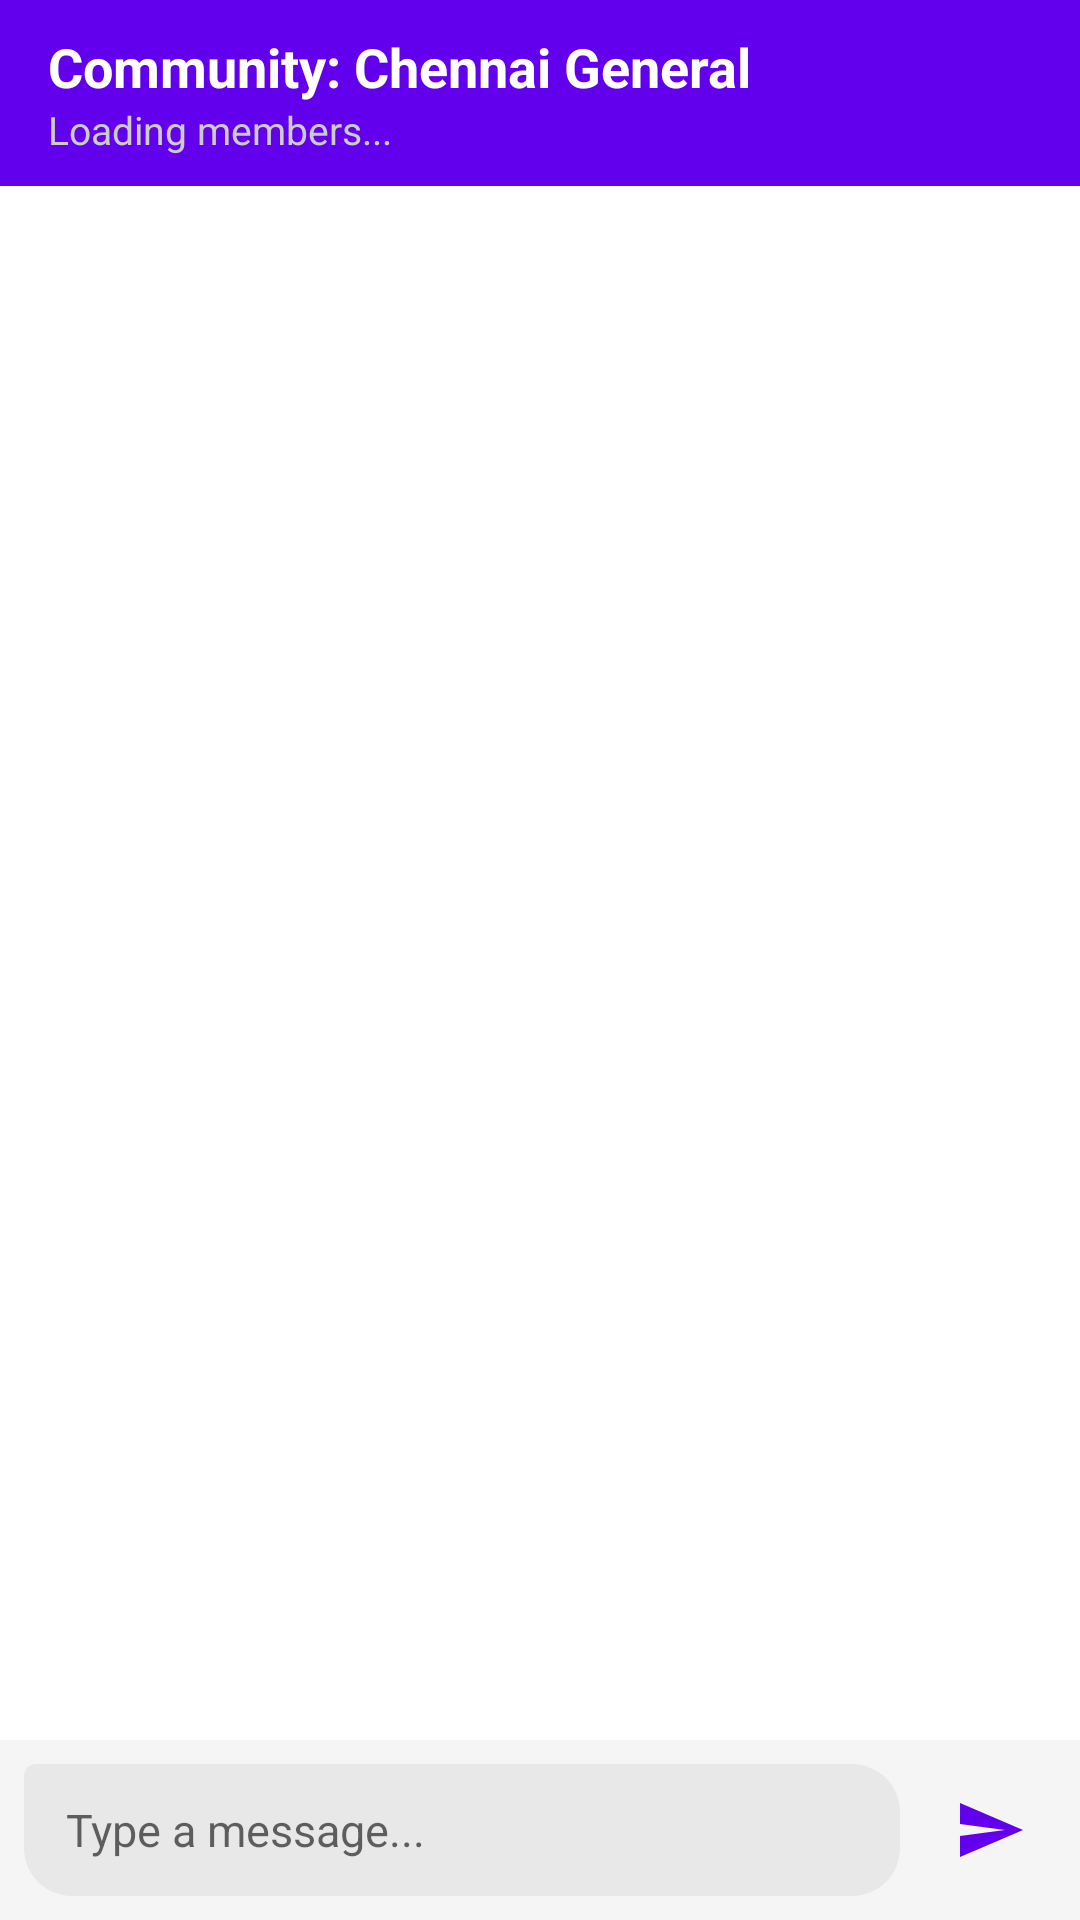

Icons on this 1080*1920 Android screen, each with its box as bbox(x1, y1, x2, y2):
Send message: bbox(960, 1803, 1023, 1857)
